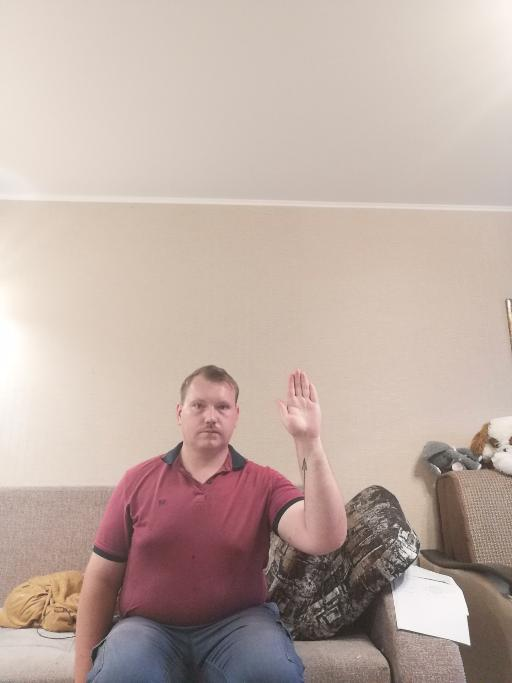stop: (275, 367, 321, 438)
